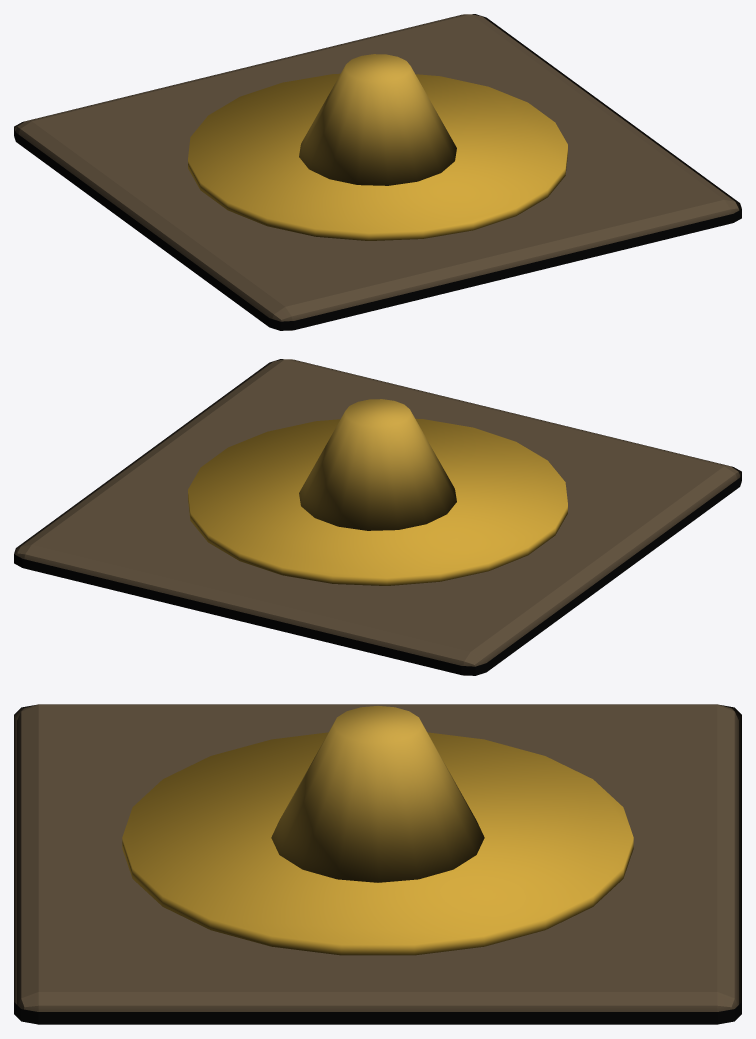
File: trap_alarm.glb
3 renders of one model, top to bottom at view 1: azimuth 30°, elevation 25°; view 2: azimuth 150°, elevation 25°; view 3: azimuth 270°, elevation 25°, orthographic. The views are drawn at different scales.
Visible parts, largest first — view 1: trap_alarm; view 2: trap_alarm; view 3: trap_alarm.
Boxes of the visible parts, x1,y1,x2,y2 form: trap_alarm: (14, 14, 741, 330); trap_alarm: (14, 359, 741, 675); trap_alarm: (14, 704, 741, 1024).
Bounding box in the file's own units: 0.74 × 0.175 × 0.74.
